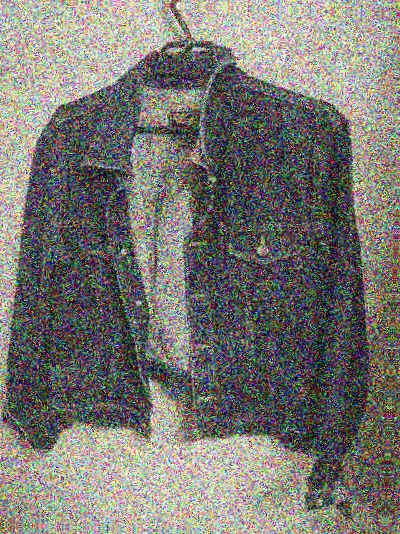Blazer: (0, 49, 376, 510)
